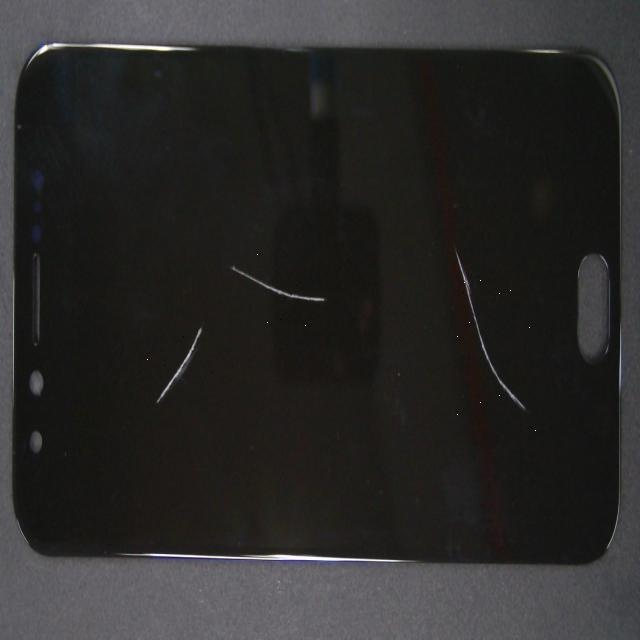scratch: (223, 81, 640, 385), (52, 119, 381, 454), (66, 186, 224, 616)
